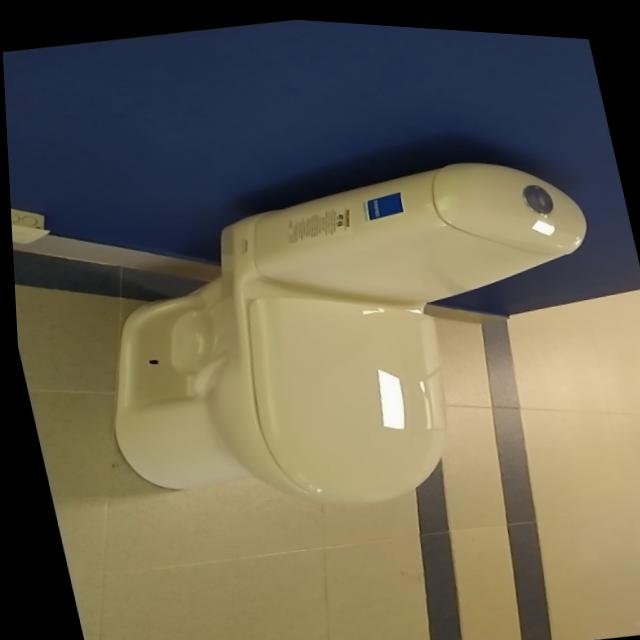toilet: (56, 114, 640, 556)
